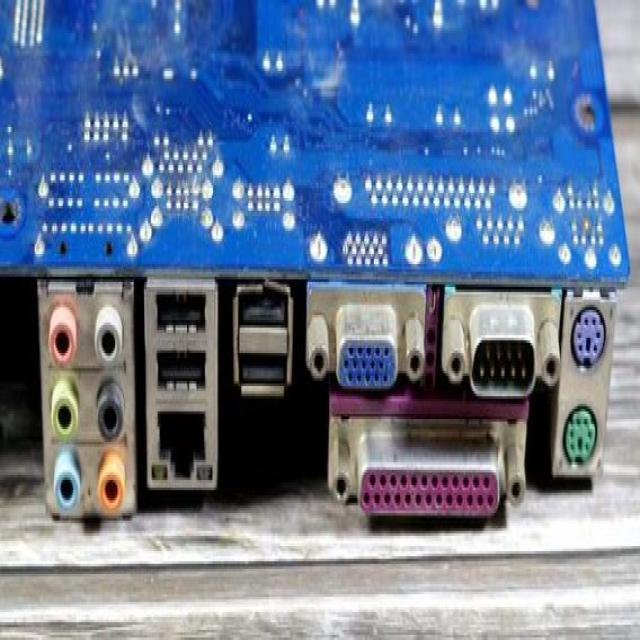electronic: (0, 0, 631, 528)
